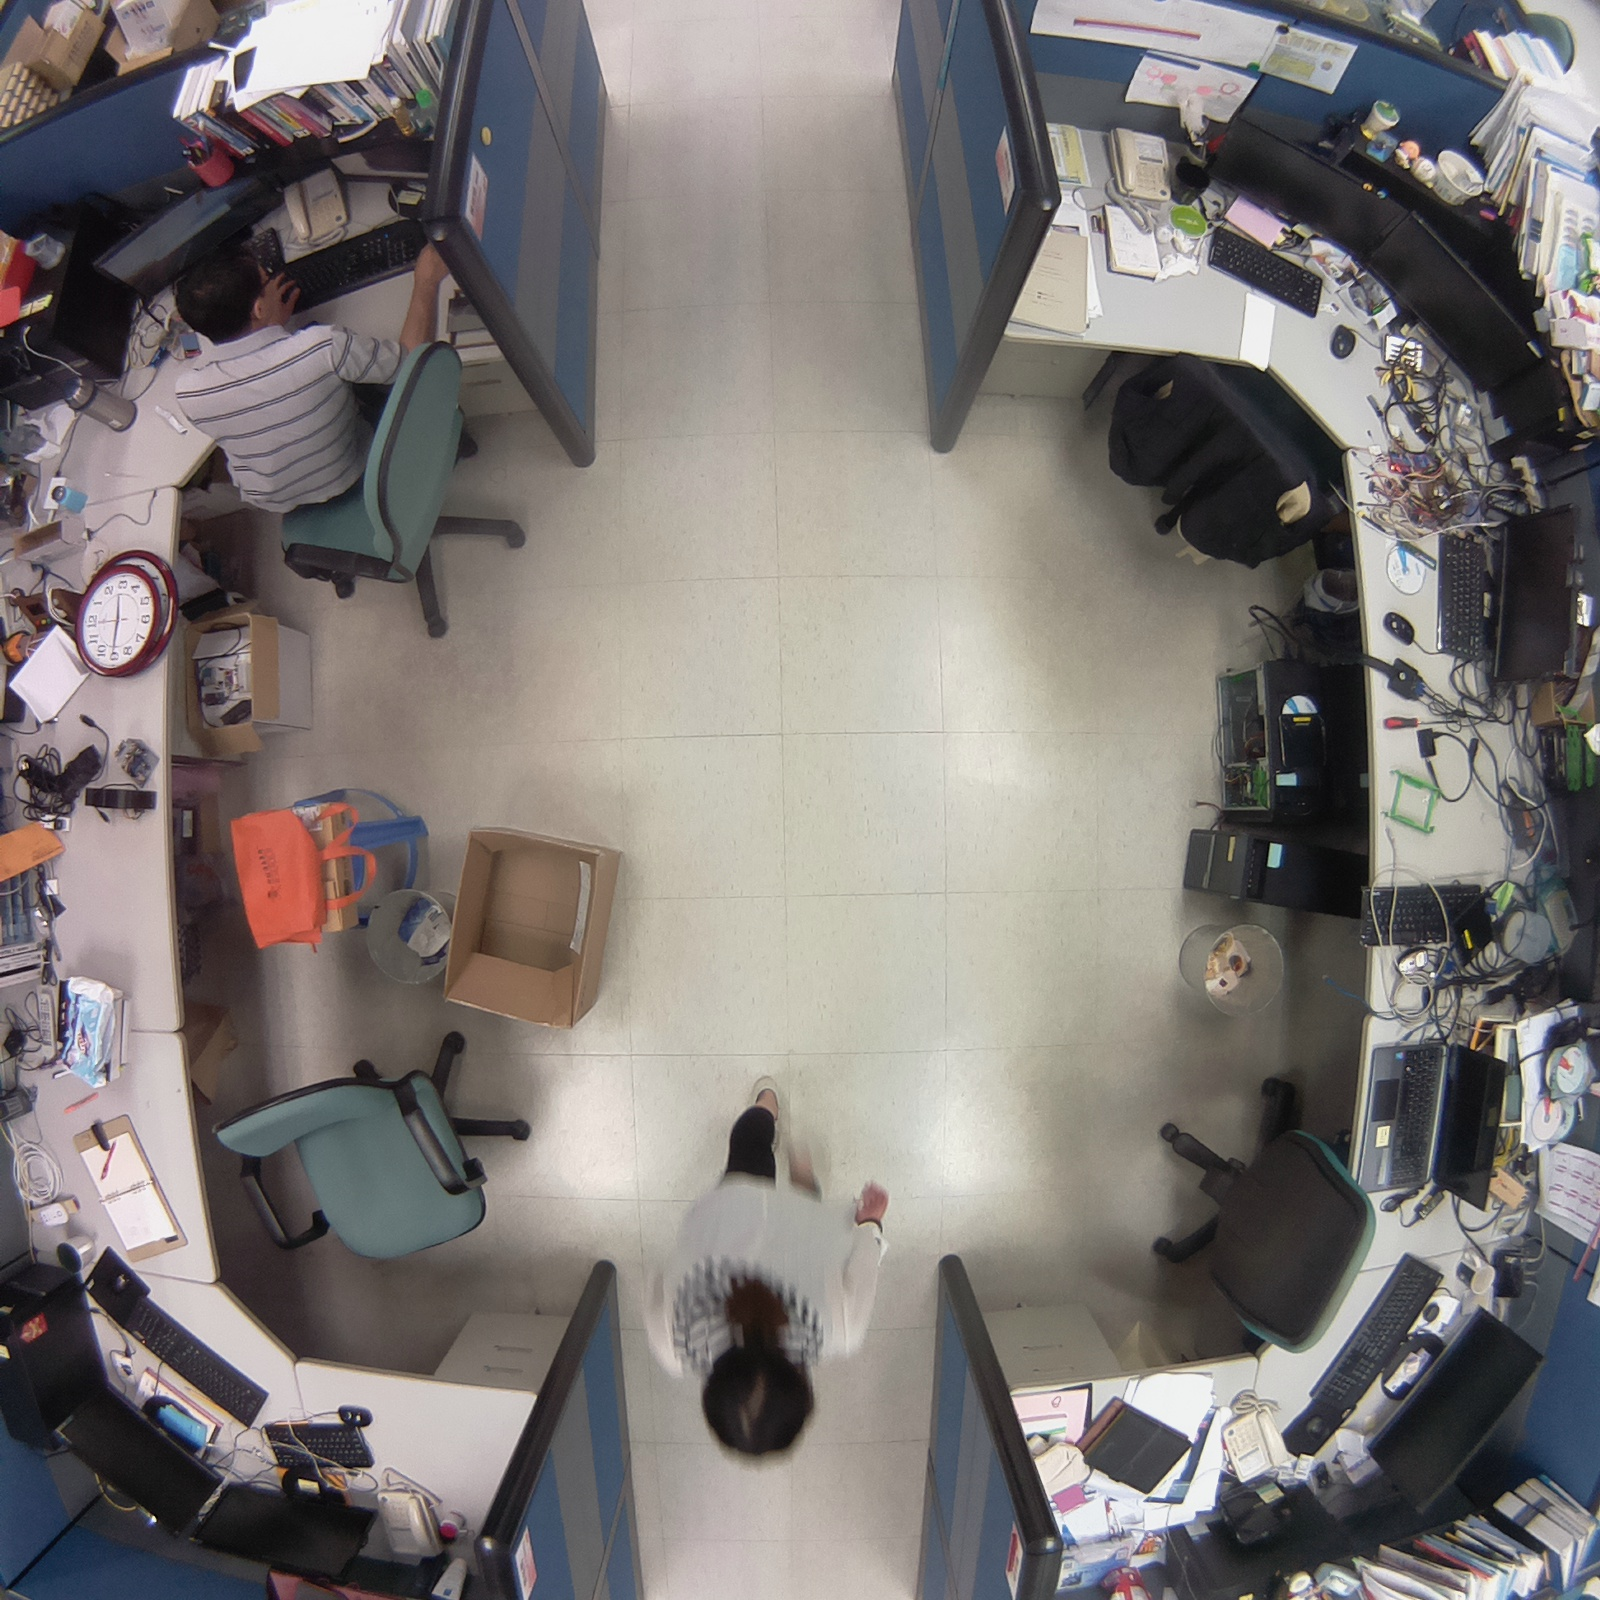chair: (181, 1022, 558, 1283), (1117, 1045, 1391, 1375), (1086, 334, 1335, 591)
head: (690, 1333, 827, 1471), (162, 237, 284, 337)
sitting: (158, 224, 540, 655)
walking: (601, 1058, 906, 1481)
